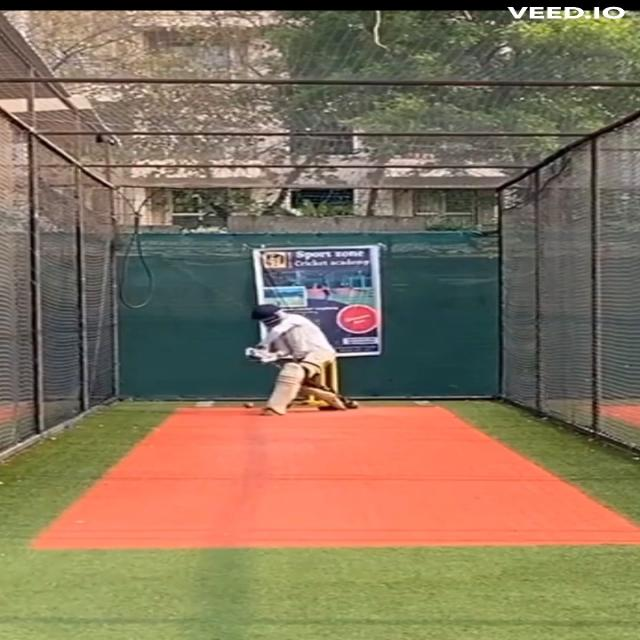ball: (240, 400, 256, 410)
